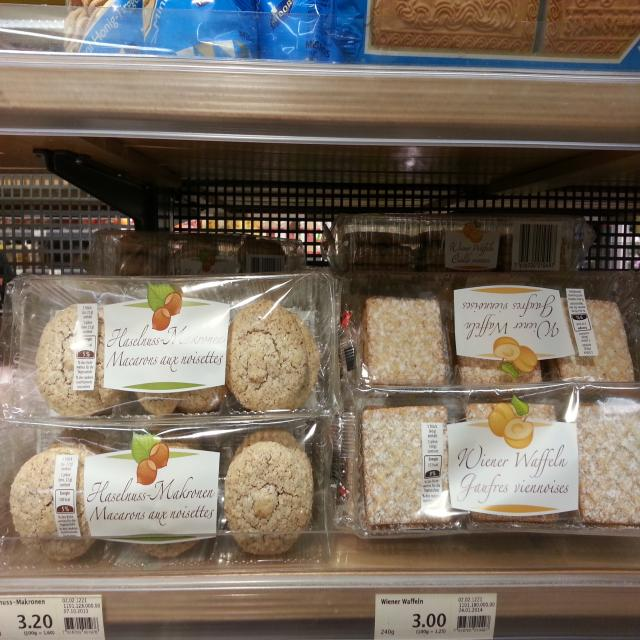Bakery: (0, 280, 336, 422), (0, 429, 335, 564), (346, 401, 640, 549), (341, 277, 640, 389)
